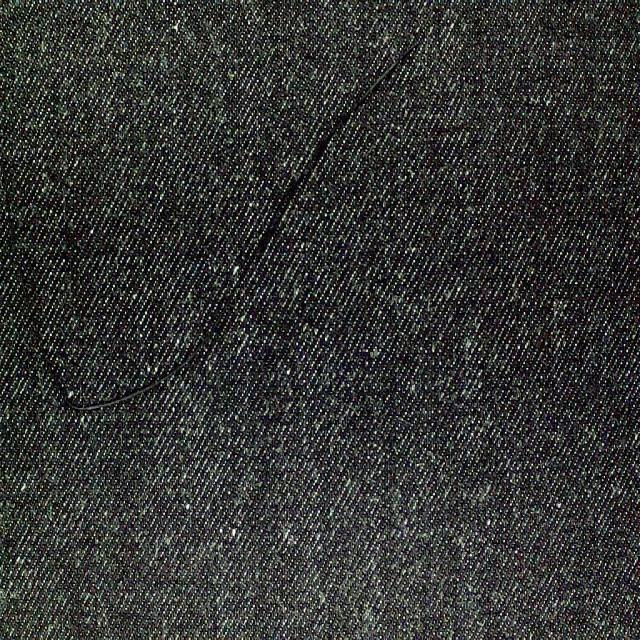defect: (3, 12, 461, 417)
